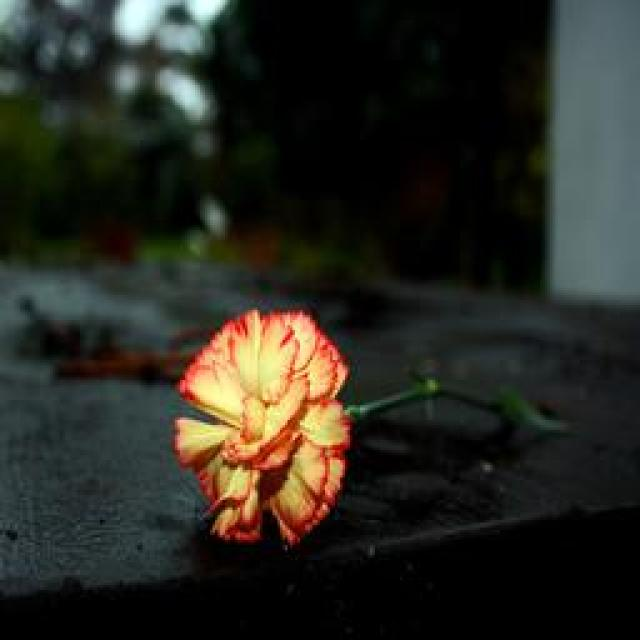carnation: (173, 294, 378, 548)
